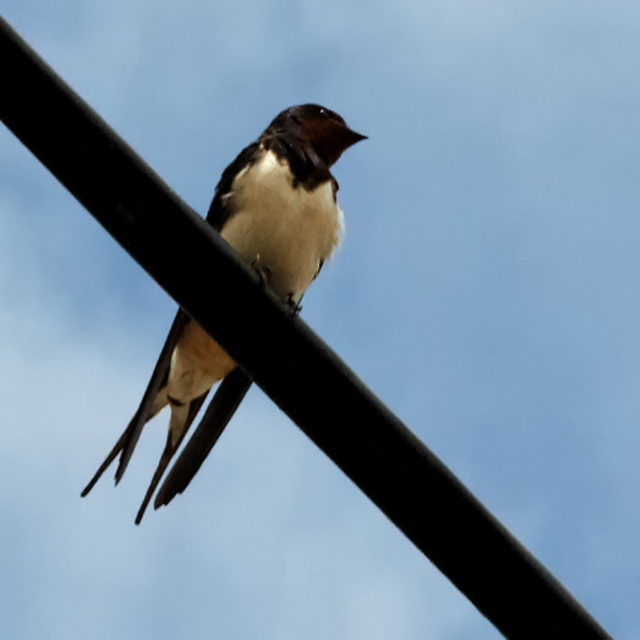Magpie: (80, 103, 369, 526)
